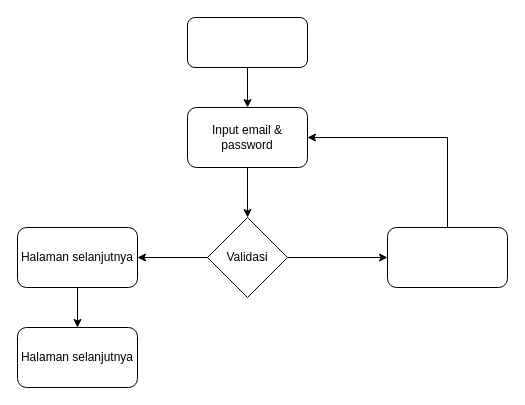
The diagram is 525 pixels wide and 405 high, and some of its shapes have lost their labels. Each missing label, with the box of its shape:
Mulai: (186, 16, 308, 68)
Tampil pesan error: (386, 226, 508, 288)
